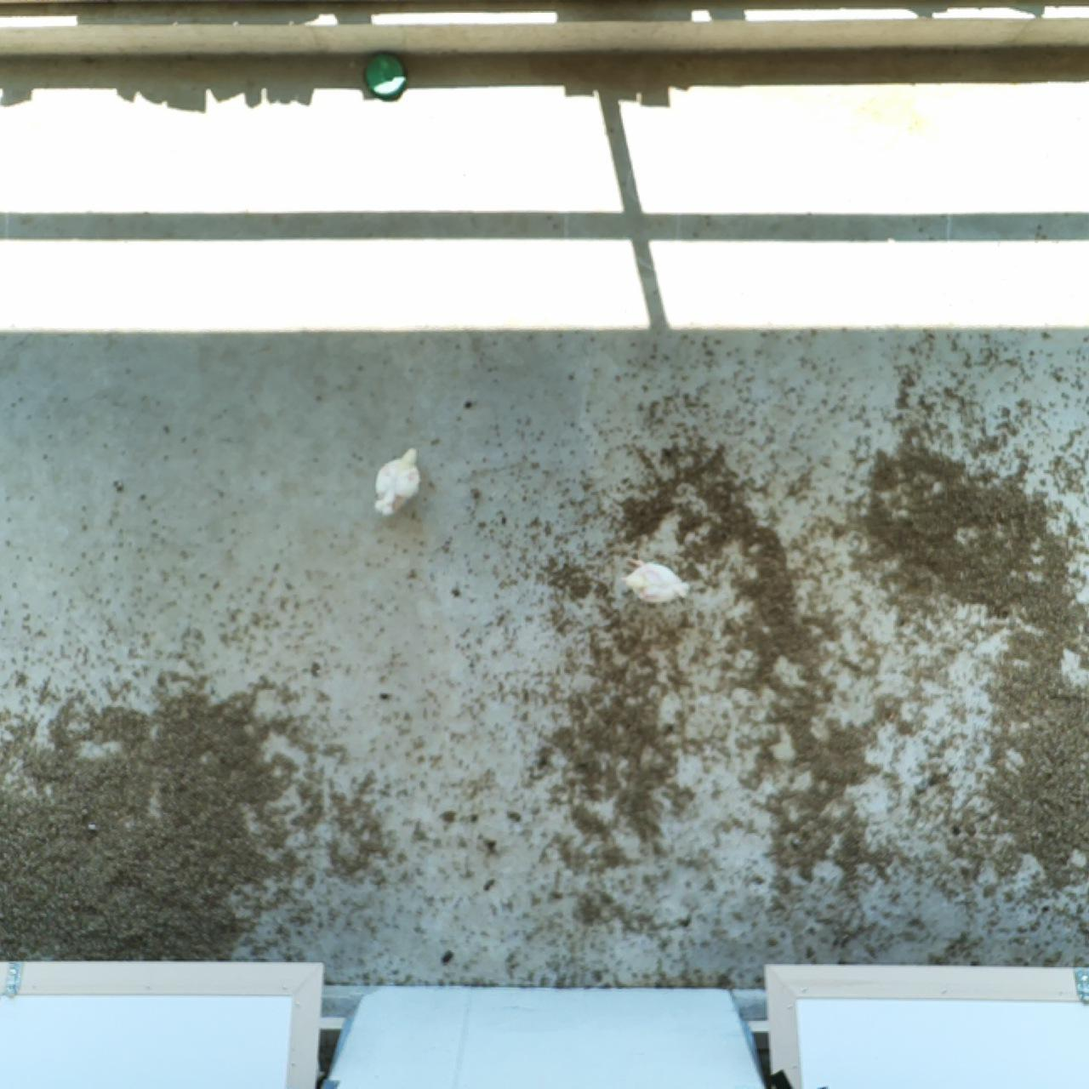chicken: (368, 439, 428, 520), (620, 556, 696, 607)
